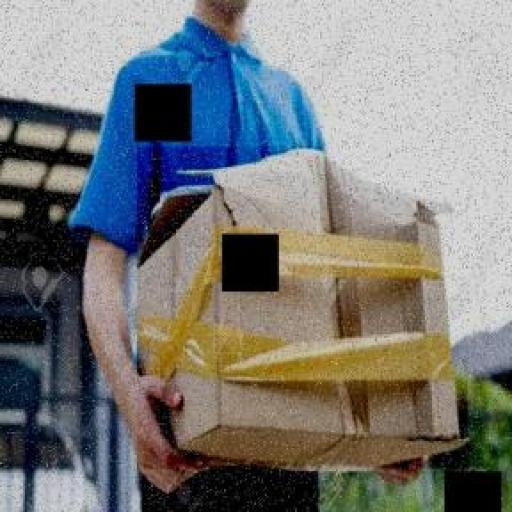box: (137, 146, 469, 468)
